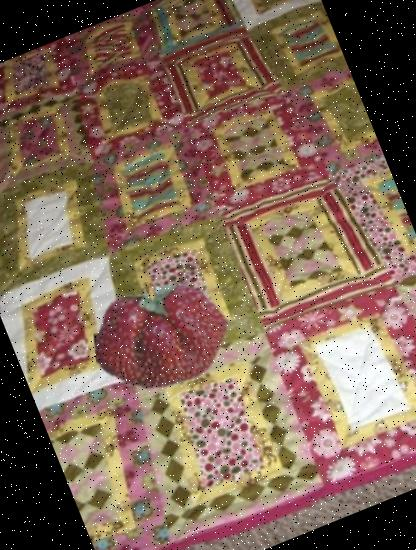Strawberry: (74, 246, 250, 423)
